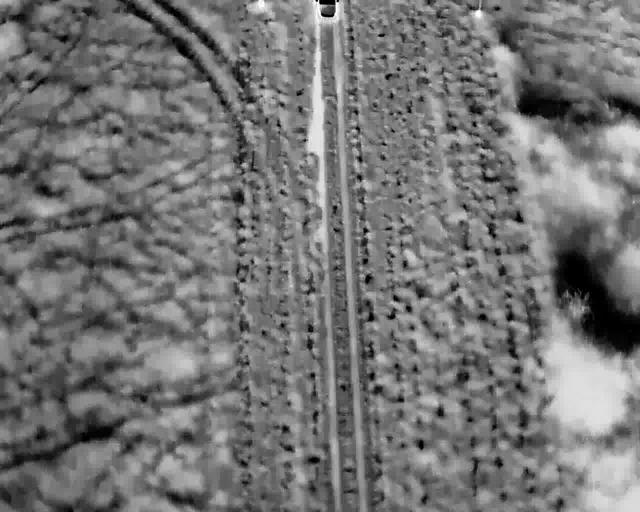car: (312, 0, 342, 20)
